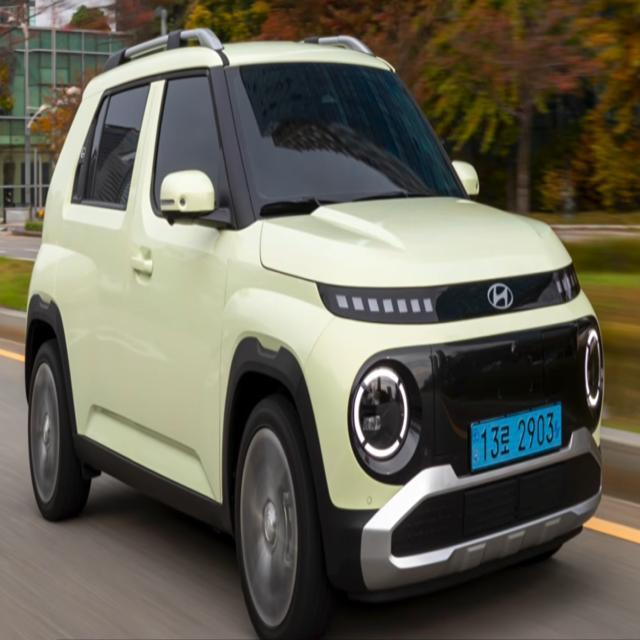car: (458, 395, 573, 479)
carev: (467, 424, 482, 472), (552, 399, 565, 453)
